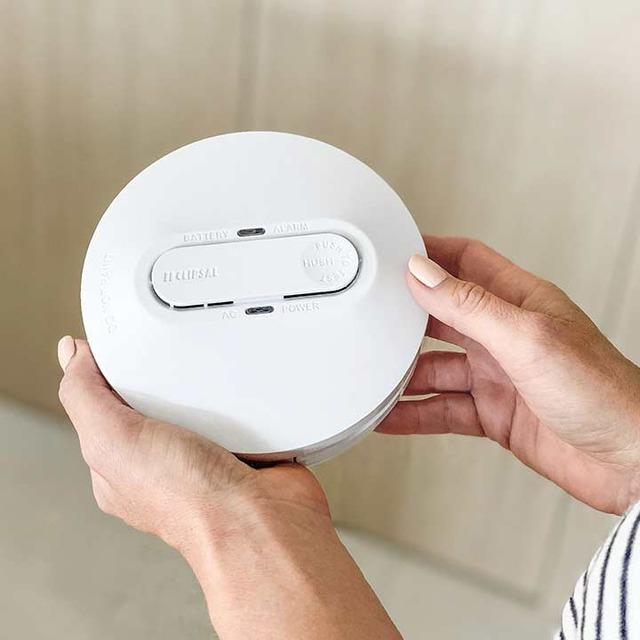Smoke-Detector: (81, 134, 426, 424)
